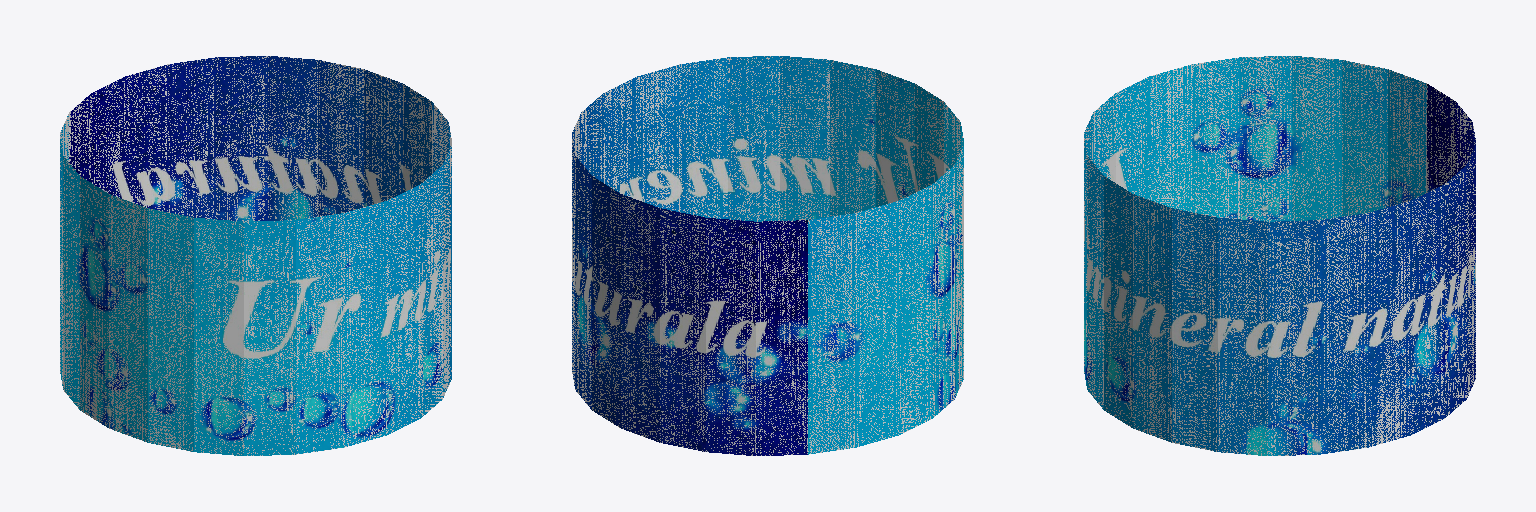
3 views of the same model, side by side, from view 1: azimuth 30°, elevation 25°; view 2: azimuth 150°, elevation 25°; view 3: azimuth 270°, elevation 25° (orthographic).
Visible parts, largest first — view 1: ETIQUETA1/ETIQUETA/mesh652/mesh652-geometry#mesh652-geometry; view 2: ETIQUETA1/ETIQUETA/mesh652/mesh652-geometry#mesh652-geometry; view 3: ETIQUETA1/ETIQUETA/mesh652/mesh652-geometry#mesh652-geometry.
Boxes of the visible parts, <box> form: ETIQUETA1/ETIQUETA/mesh652/mesh652-geometry#mesh652-geometry: <box>60,56,451,455</box>; ETIQUETA1/ETIQUETA/mesh652/mesh652-geometry#mesh652-geometry: <box>572,56,963,455</box>; ETIQUETA1/ETIQUETA/mesh652/mesh652-geometry#mesh652-geometry: <box>1084,56,1475,455</box>.
Size of the model in its own units: 0.4421 by 0.2914 by 0.4421.
2 materials, 1 textured.